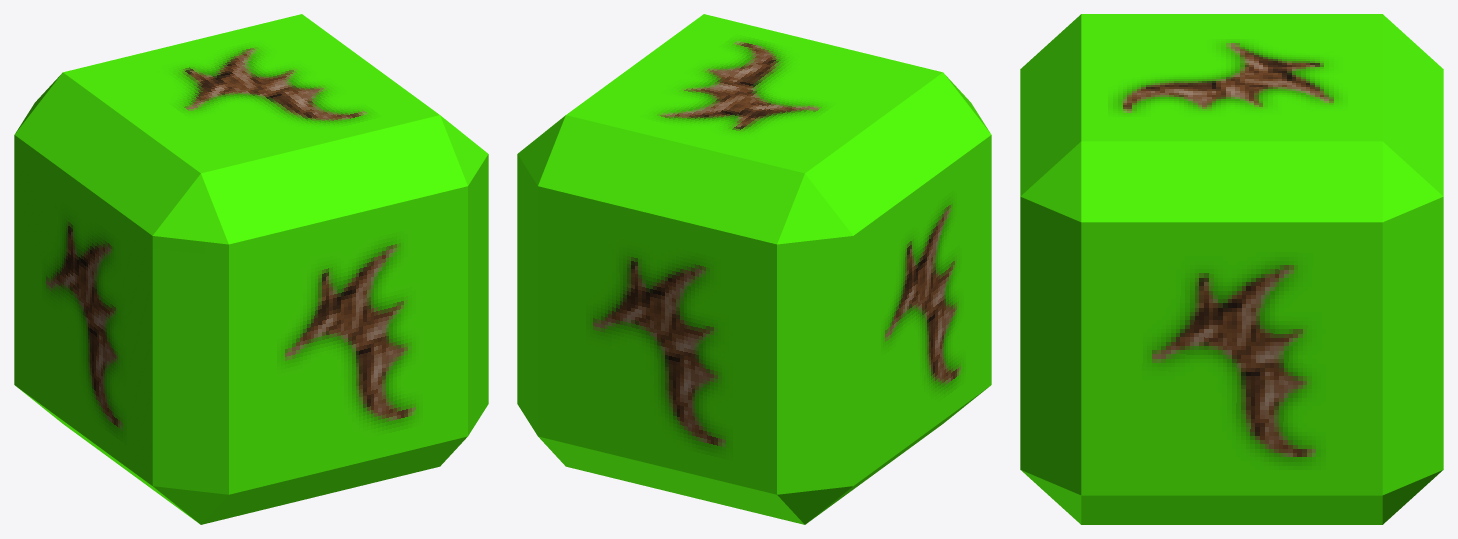
3 renders of one model, left to right at view 1: azimuth 30°, elevation 25°; view 2: azimuth 150°, elevation 25°; view 3: azimuth 270°, elevation 25°, orthographic. The views are drawn at different scales.
Parts seen in each view (by area): view 1: Symbol; view 2: Symbol; view 3: Symbol.
Boxes of the visible parts, x1=… form: Symbol: x1=14, y1=14, x2=488, y2=524; Symbol: x1=517, y1=14, x2=991, y2=524; Symbol: x1=1020, y1=14, x2=1443, y2=524.
Bounding box in the file's own units: 200 × 200 × 200.
